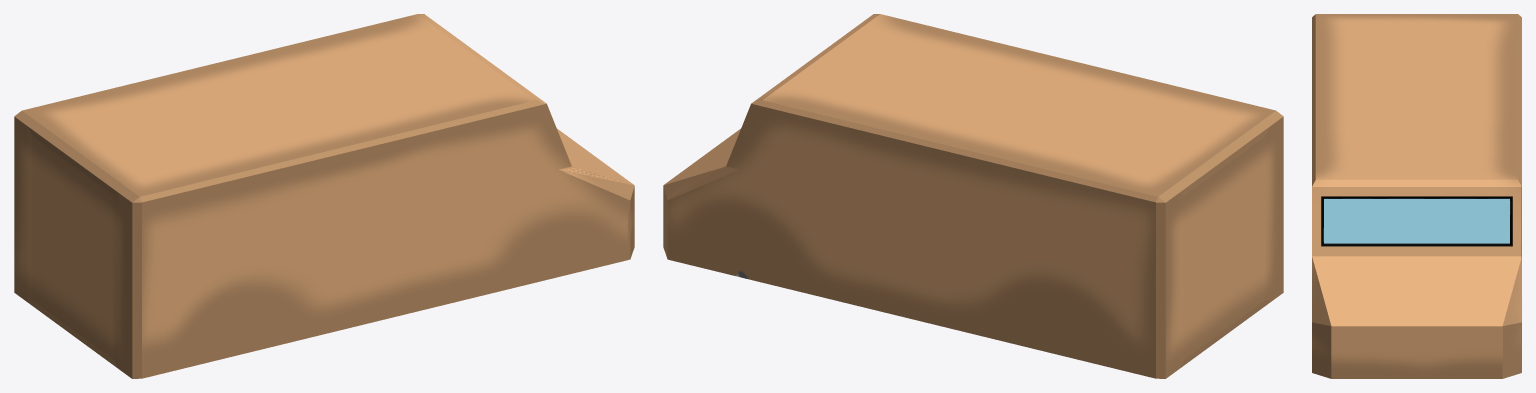
Rendered from delivery_truck_body.fbx.
3 renders of one model, left to right at view 1: azimuth 30°, elevation 25°; view 2: azimuth 150°, elevation 25°; view 3: azimuth 270°, elevation 25°, orthographic. The views are drawn at different scales.
Visible parts, largest first — view 1: Body; view 2: Body; view 3: Body.
Part boxes in pixels (x1=…): Body: x1=14, y1=14, x2=634, y2=378; Body: x1=663, y1=14, x2=1283, y2=378; Body: x1=1312, y1=14, x2=1521, y2=378.
Size of the model in its own units: 966 by 325 by 400.
